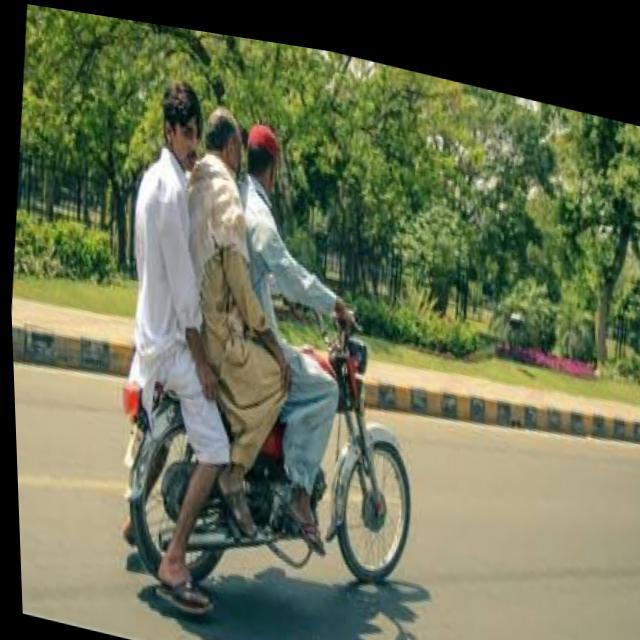Nonhelmet: (154, 70, 208, 174)
